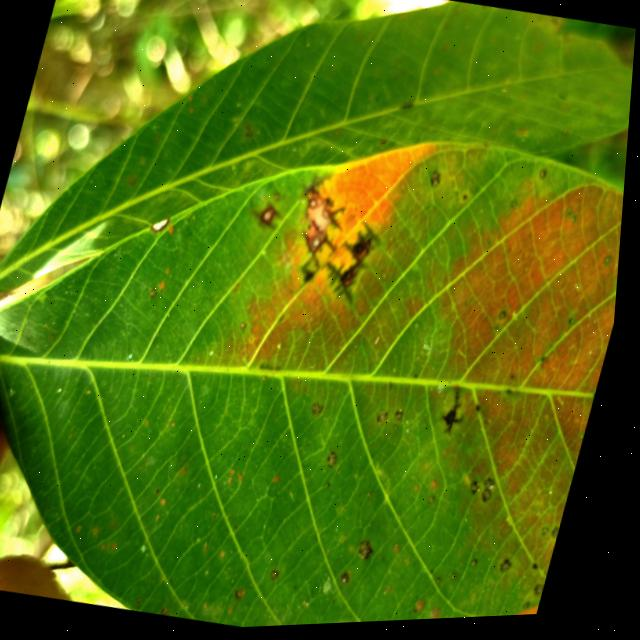Corynespora: (295, 174, 360, 235), (296, 221, 344, 279), (341, 220, 390, 275), (321, 261, 369, 309), (442, 385, 478, 441), (250, 199, 288, 232)
Leaf-Blight: (156, 218, 172, 232)
